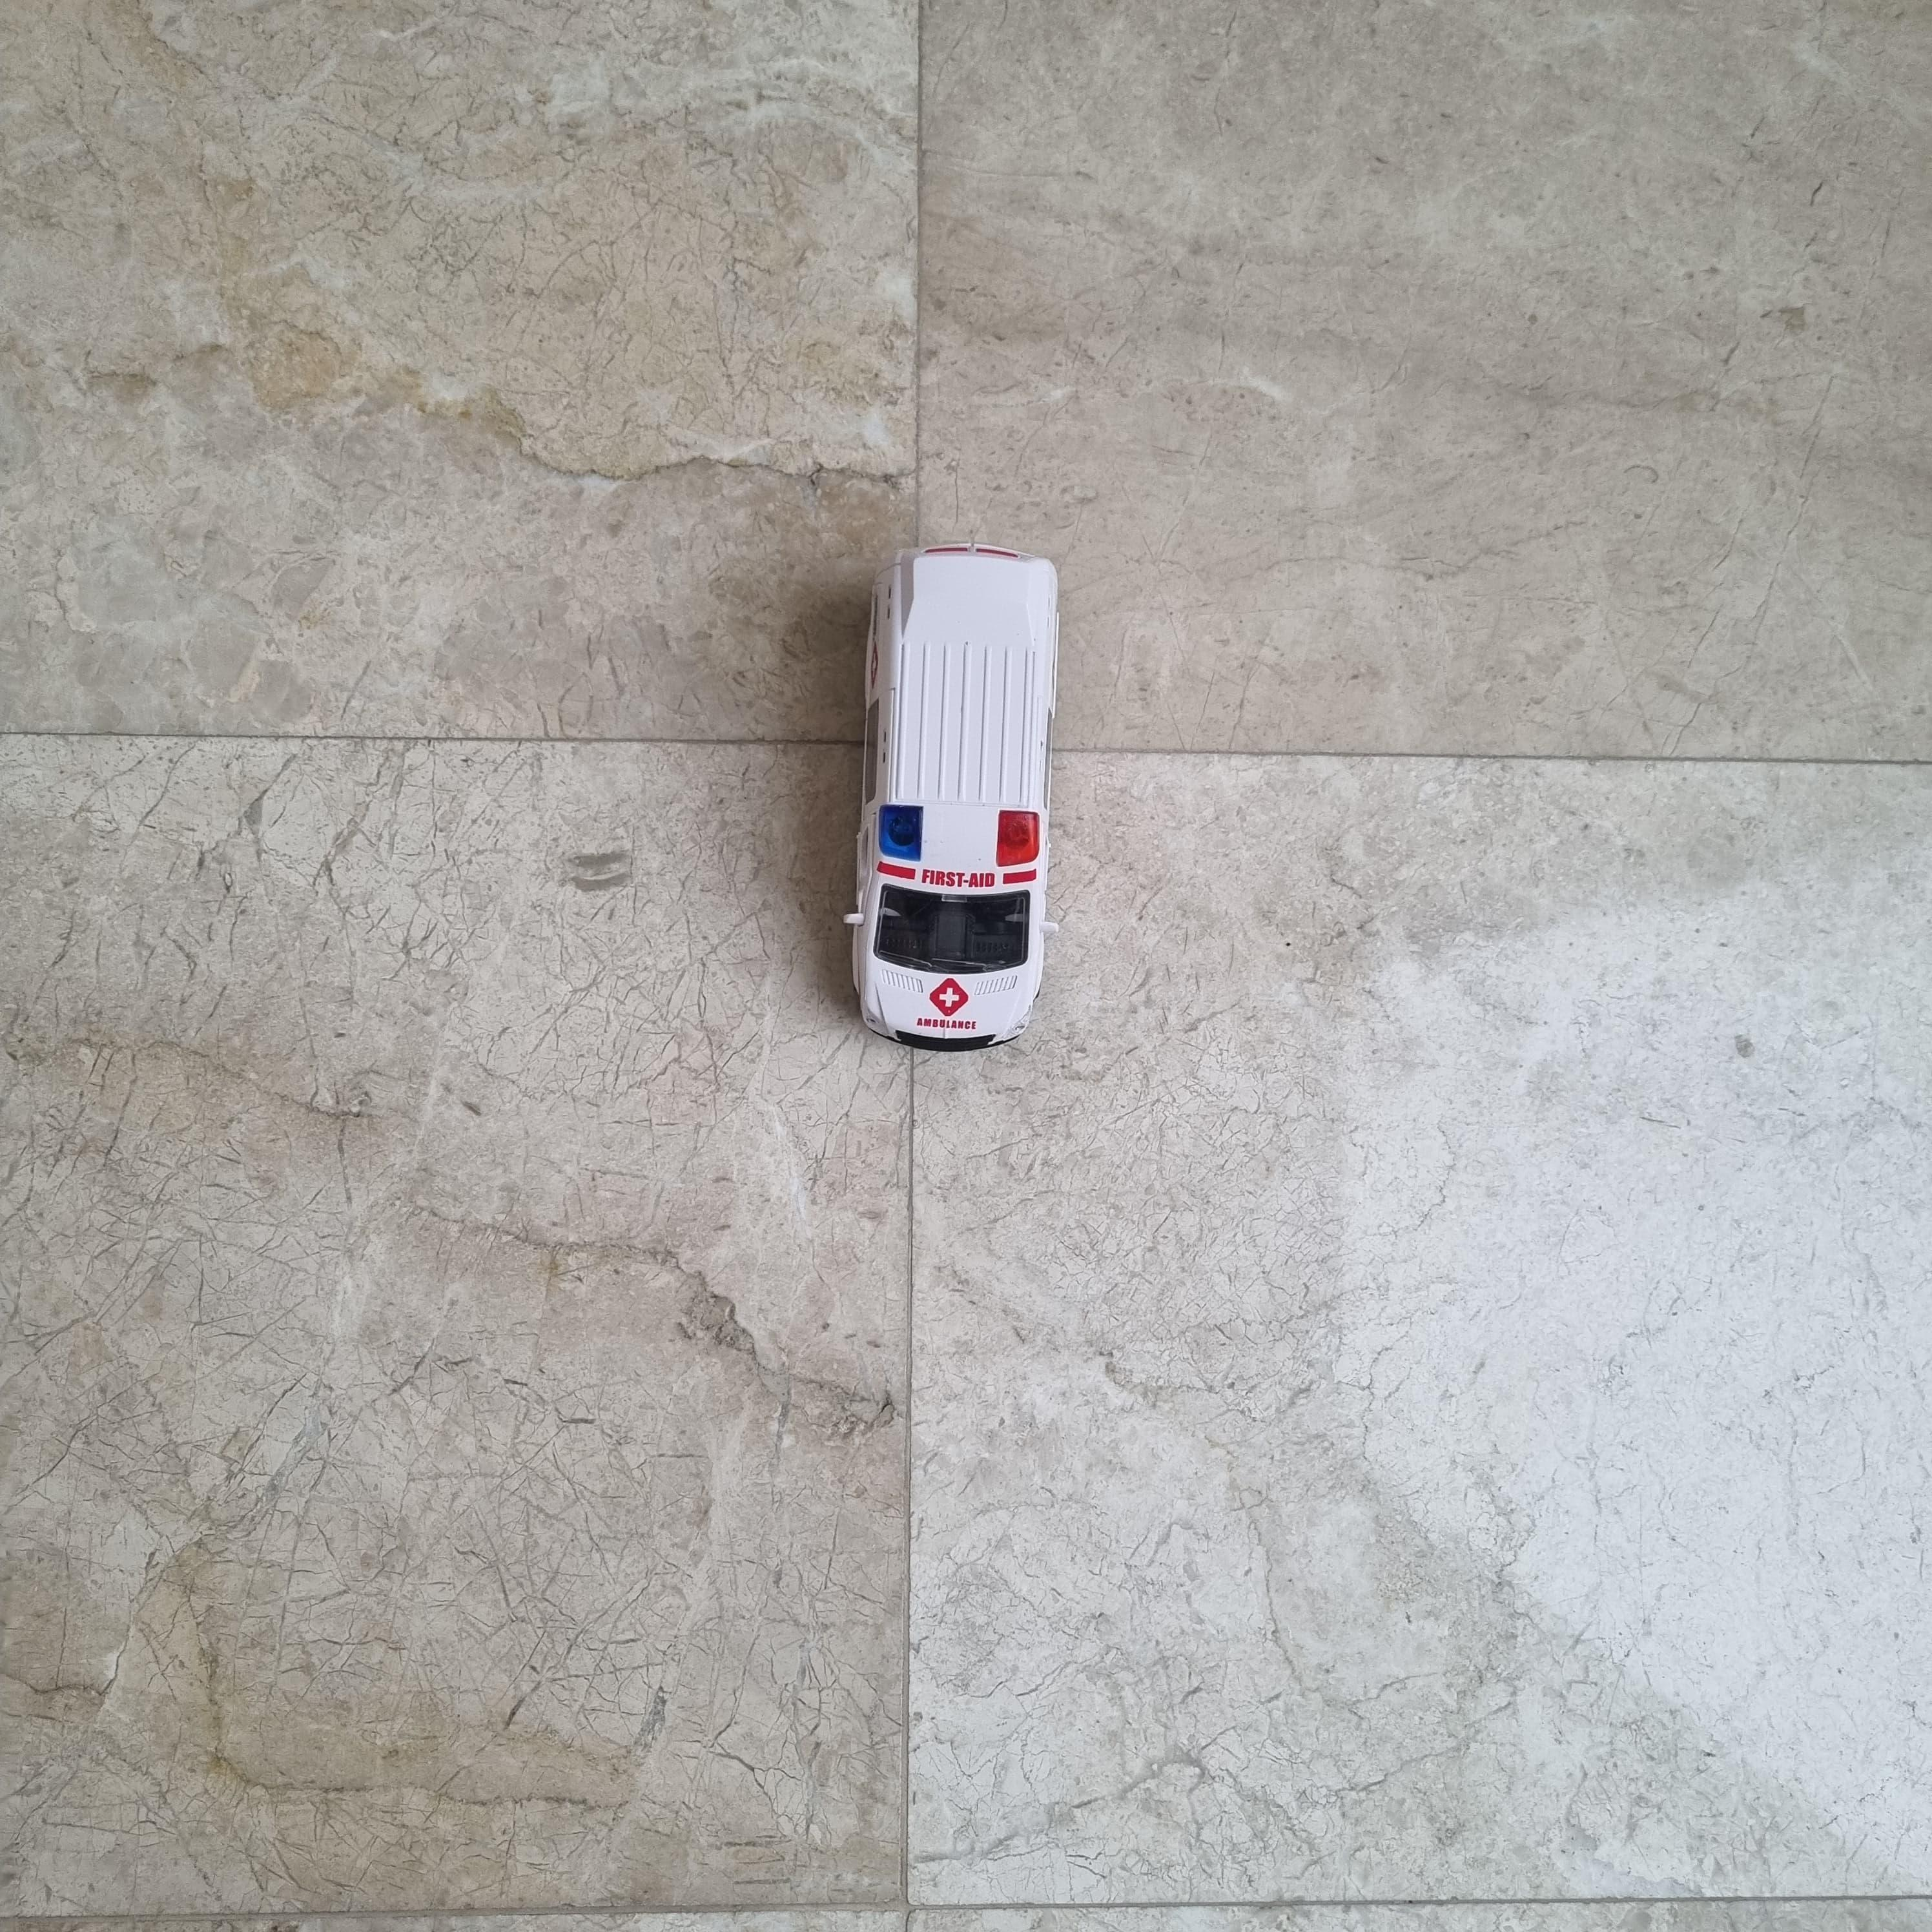ambulance_off: (840, 547, 1058, 1051)
